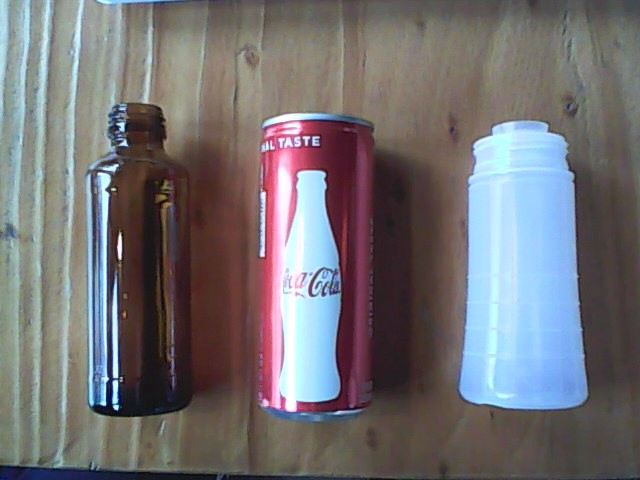Can: (253, 105, 381, 429)
Glass: (80, 97, 199, 420)
Plastic: (447, 111, 595, 418)
